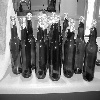beer: (8, 16, 23, 75)
